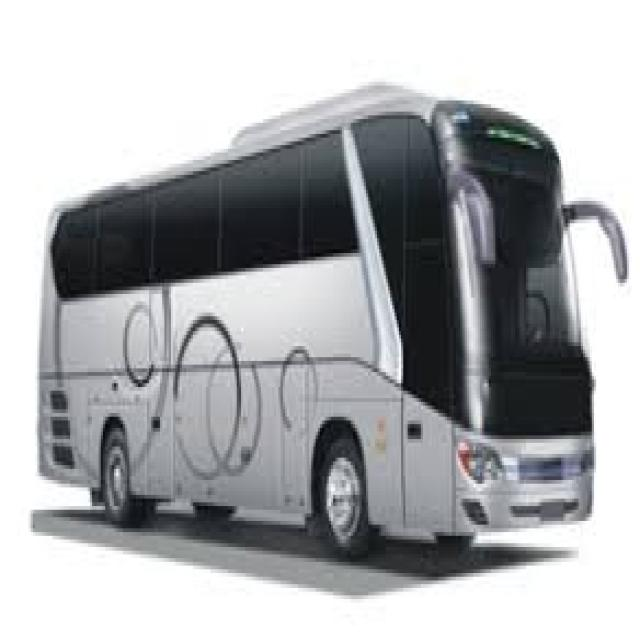bus: (29, 50, 630, 593)
